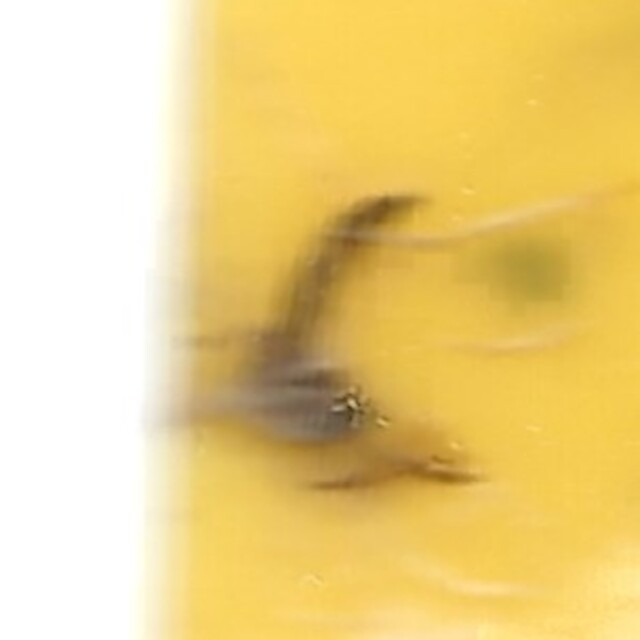Nematocera: (211, 184, 429, 456)
